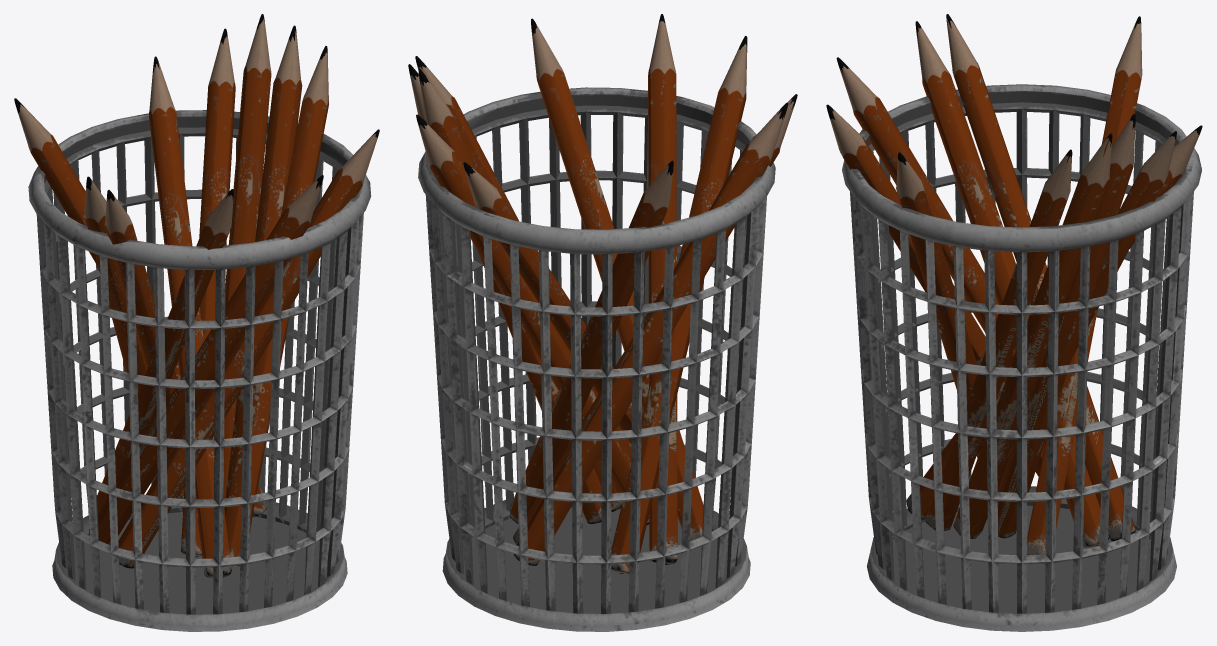
Rendered from pencils_w_holder.glb.
3 renders of one model, left to right at view 1: azimuth 30°, elevation 25°; view 2: azimuth 150°, elevation 25°; view 3: azimuth 270°, elevation 25°, orthographic. The views are drawn at different scales.
Visible parts, largest first — view 1: Pencil_Holder, Pencils; view 2: Pencil_Holder, Pencils; view 3: Pencil_Holder, Pencils.
Part boxes in pixels (x1,y1,x2,y2): Pencil_Holder: [28, 110, 371, 631]; Pencils: [14, 14, 379, 578]; Pencil_Holder: [418, 87, 775, 631]; Pencils: [408, 14, 797, 574]; Pencil_Holder: [842, 84, 1201, 631]; Pencils: [826, 14, 1202, 554].
Bounding box in the file's own units: 0.3056 × 0.4767 × 0.317.
Materials: 2 (2 with a texture image).
